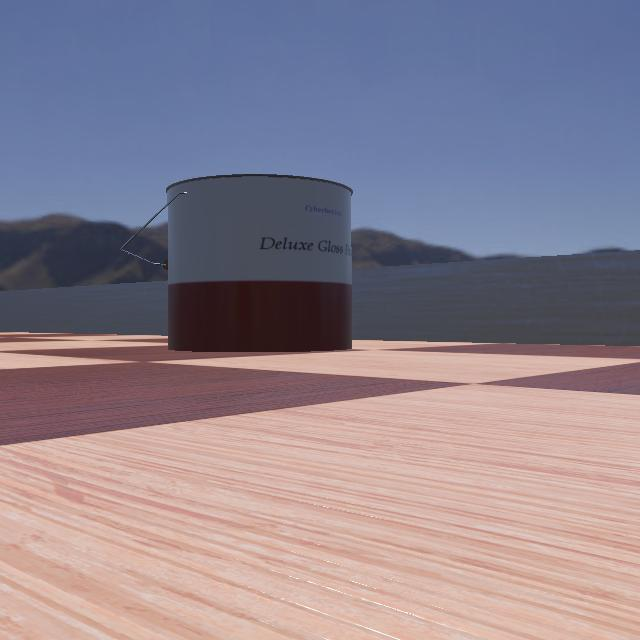paint-bucket: (92, 173, 358, 353)
